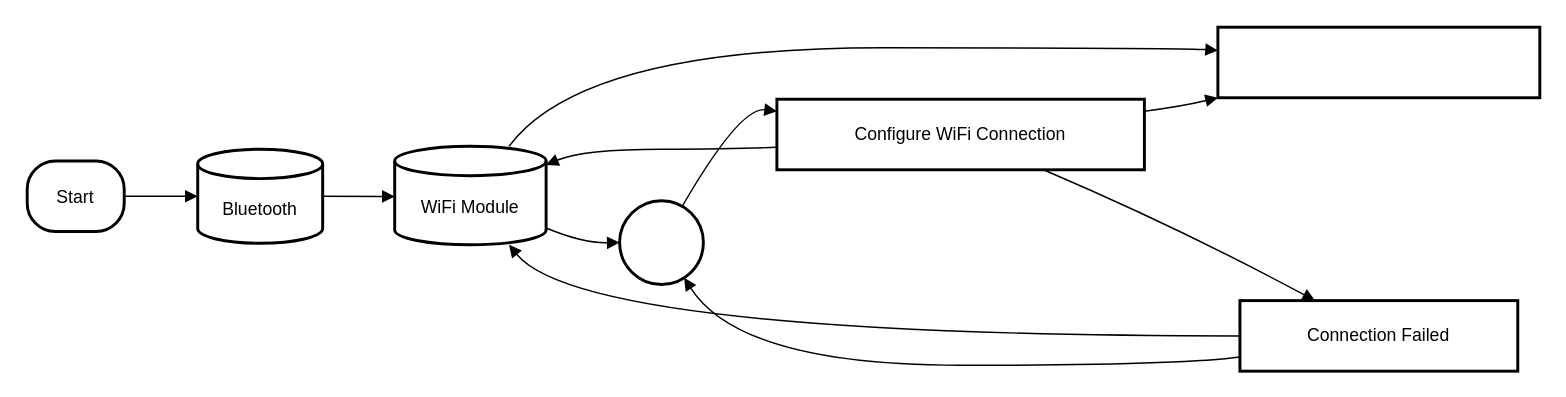
Image size: 1566x397. Some labels were removed from this diagram. Here are the shapes that lost their labels. From the top down, the centre of each, then its label:
At [1378,61]: "Connection Successful".
At [660,241]: "ESP32".
